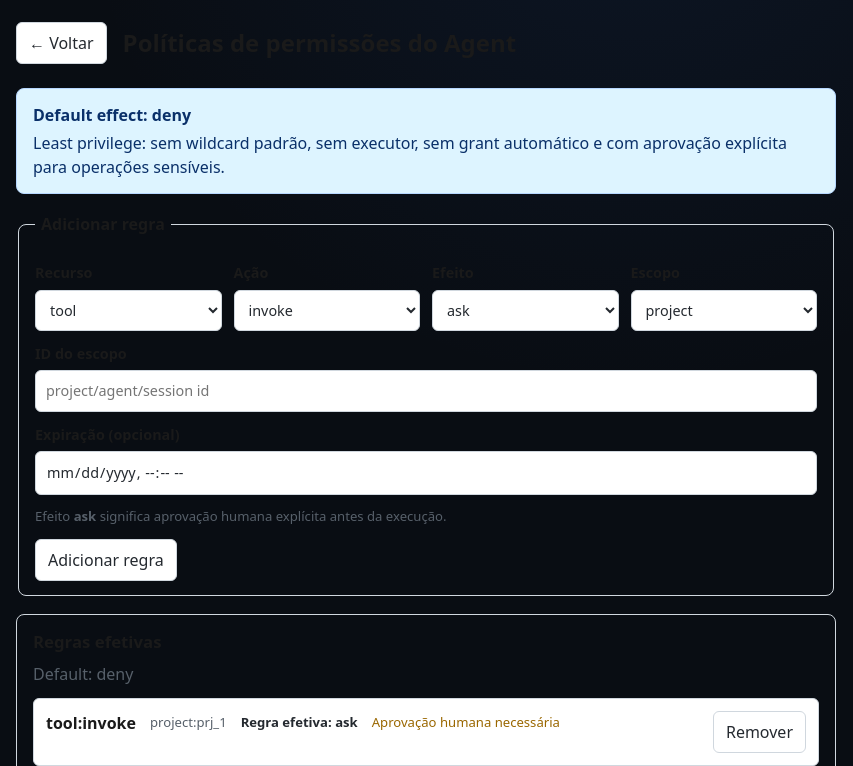
Test case: PermissionsPage › maps stale updates to a conflict without navigating
This screenshot has width=853, height=766.
Expected: the text "Default: deny" is shown, left=33, top=663, right=133, bottom=685
Select "deny" in the dropdown labelled "Efeito": (525, 310) left=432, top=290, right=618, bottom=331
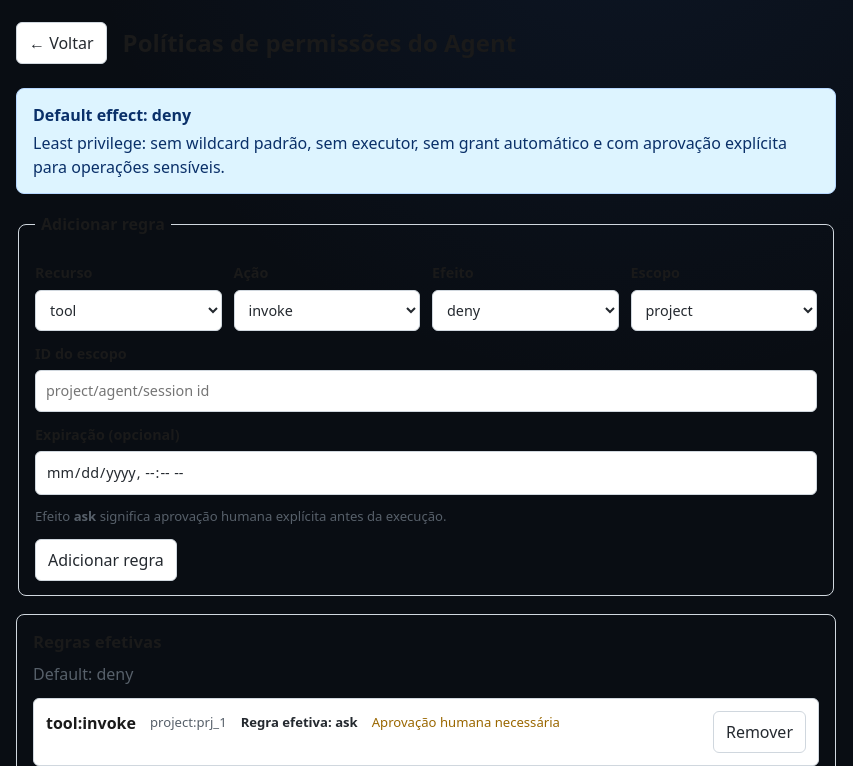
In the field labelled "ID do escopo": (426, 391) left=35, top=370, right=817, bottom=412, type "prj_2"
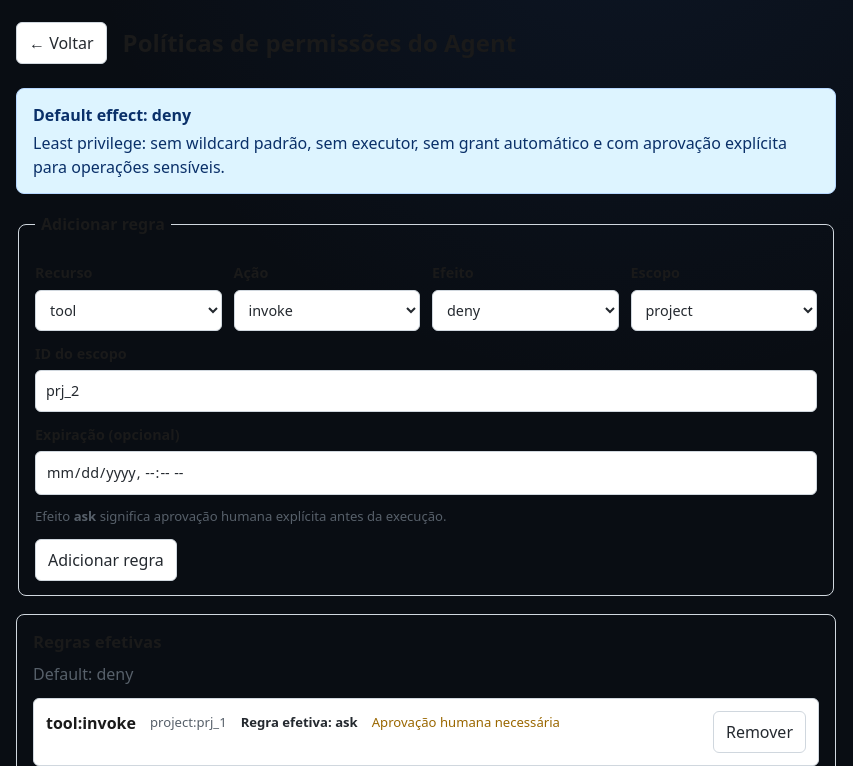
Click the button "Adicionar regra": (106, 560) left=35, top=539, right=177, bottom=581
(page scrolled)
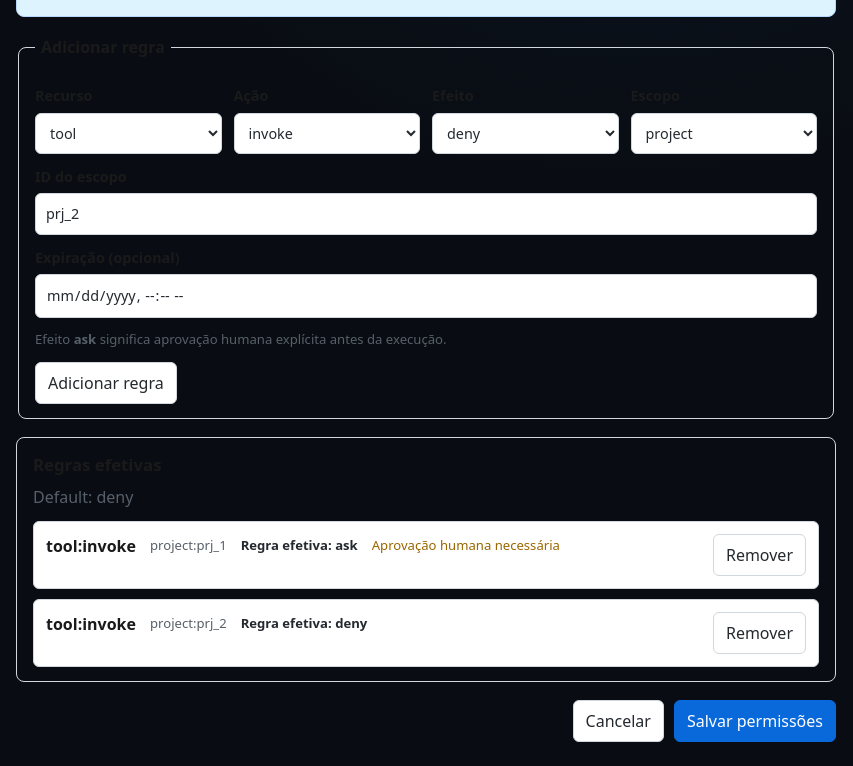
Click the button "Salvar permissões": (755, 721) left=674, top=700, right=836, bottom=742
(page scrolled)
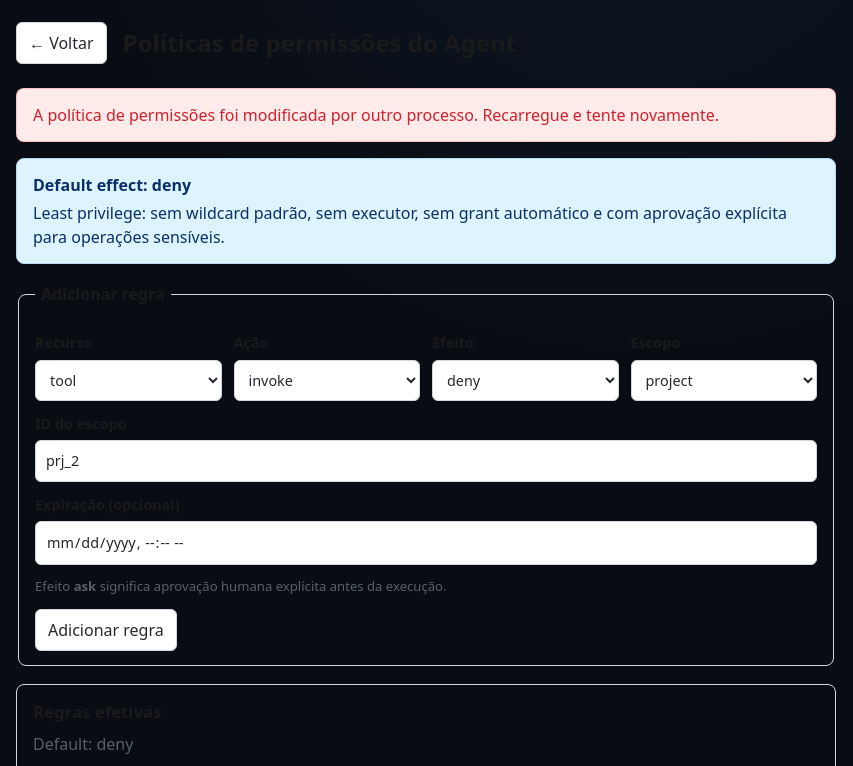
Expected: the message shows "modificada por outro processo", left=33, top=104, right=719, bottom=126
